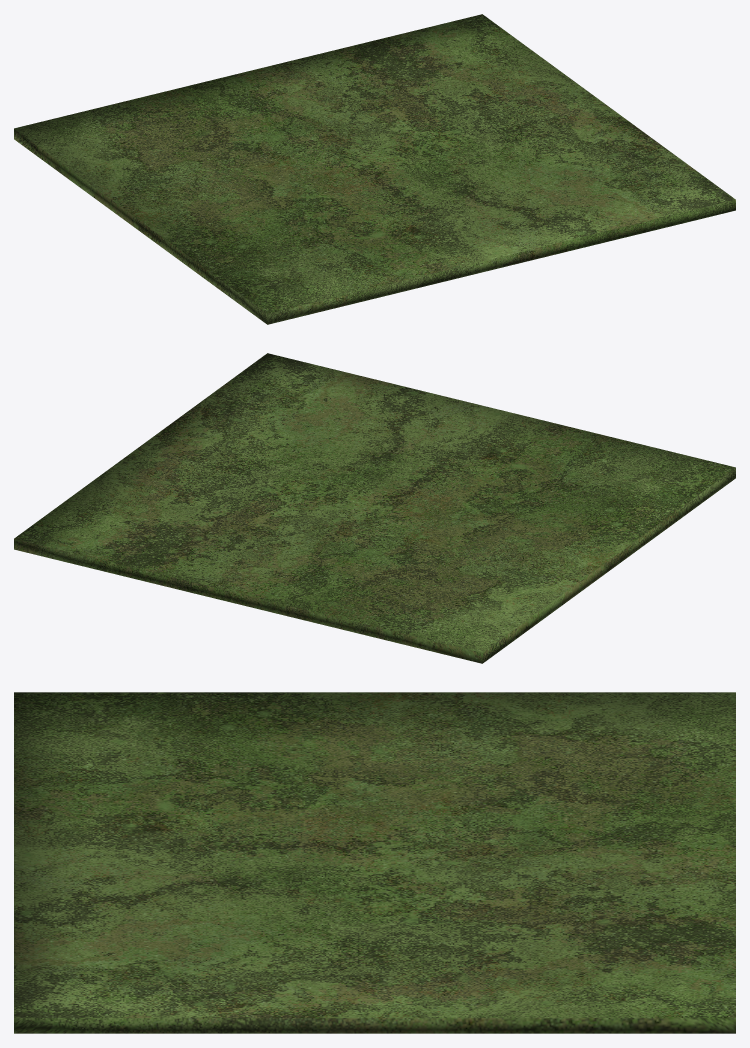
Rendered from Piso.fbx.
3 renders of one model, top to bottom at view 1: azimuth 30°, elevation 25°; view 2: azimuth 150°, elevation 25°; view 3: azimuth 270°, elevation 25°, orthographic. The views are drawn at different scales.
Visible parts, largest first — view 1: Piso; view 2: Piso; view 3: Piso.
Part boxes in pixels (x1,y1,x2,y2): Piso: [14, 14, 735, 324]; Piso: [14, 353, 735, 663]; Piso: [14, 692, 735, 1033].
Size of the model in its own units: 65481 by 1448 by 61366.
